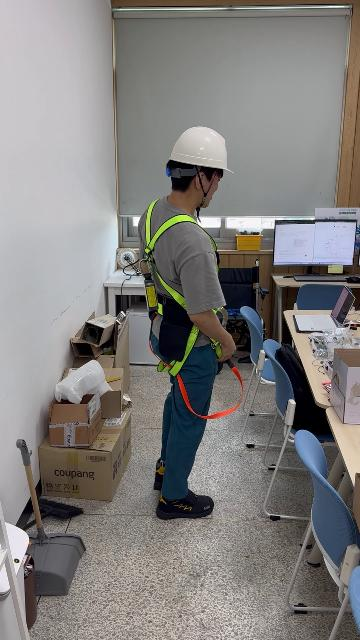helmet_worn: (166, 125, 235, 174)
shoe_worn: (156, 489, 213, 519), (153, 459, 165, 491)
vest_worn: (141, 204, 242, 407)
